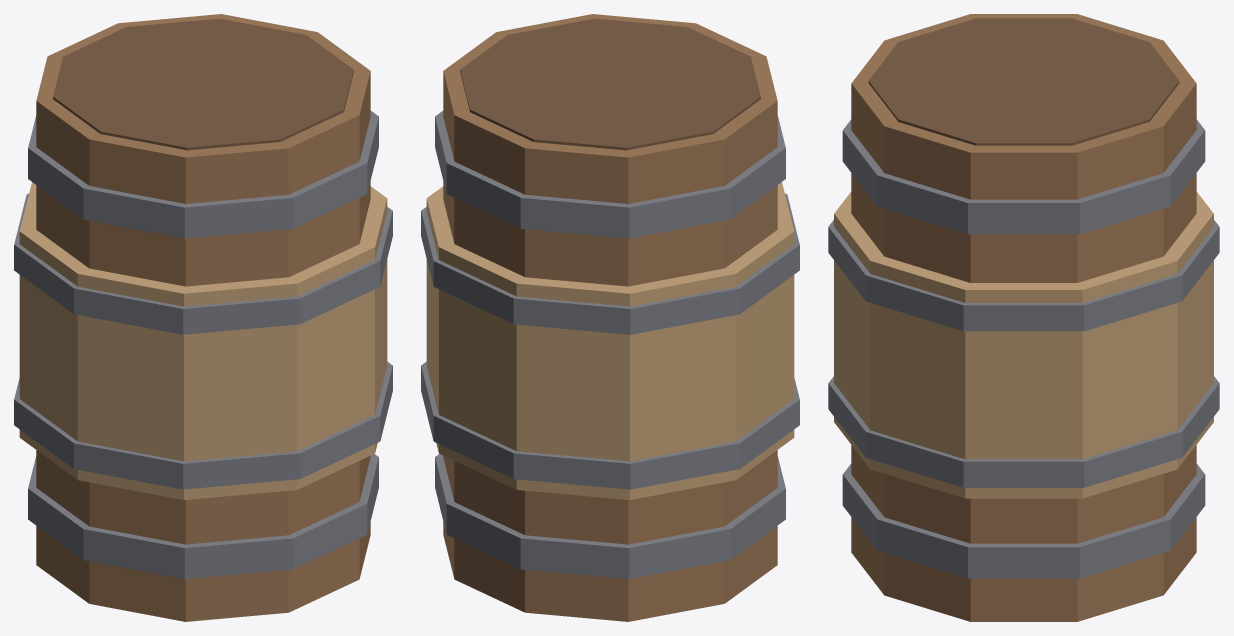
The model's file is SM_Barrel.glb.
3 renders of one model, left to right at view 1: azimuth 30°, elevation 25°; view 2: azimuth 150°, elevation 25°; view 3: azimuth 270°, elevation 25°, orthographic.
Parts seen in each view (by area): view 1: SM_Barrel; view 2: SM_Barrel; view 3: SM_Barrel.
Boxes of the visible parts, box(x1,y1,x2,y2) form: SM_Barrel: box(14, 14, 392, 621); SM_Barrel: box(421, 14, 799, 621); SM_Barrel: box(828, 14, 1219, 621).
Bounding box in the file's own units: 0.6467 × 0.905 × 0.68.
